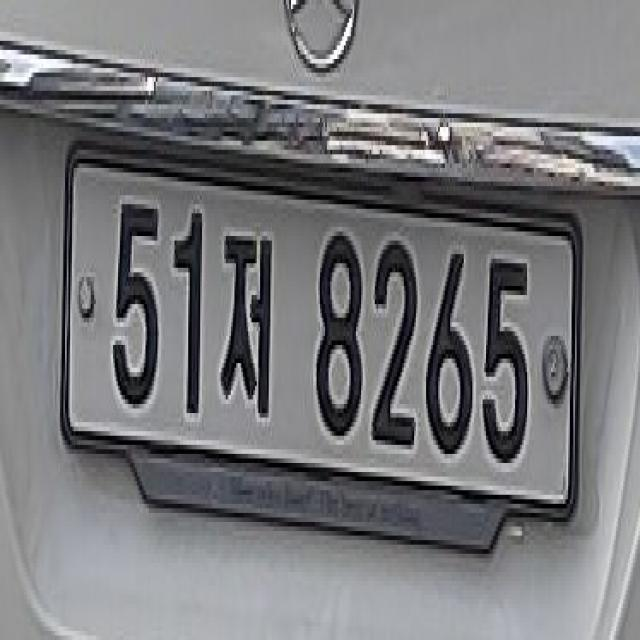1: (164, 196, 204, 430)
2: (369, 234, 421, 467)
5: (107, 184, 162, 420), (482, 241, 532, 463)
6: (424, 234, 476, 460)
8: (309, 217, 367, 438)
jeo: (213, 218, 276, 438)
license_plate: (57, 128, 593, 557)
